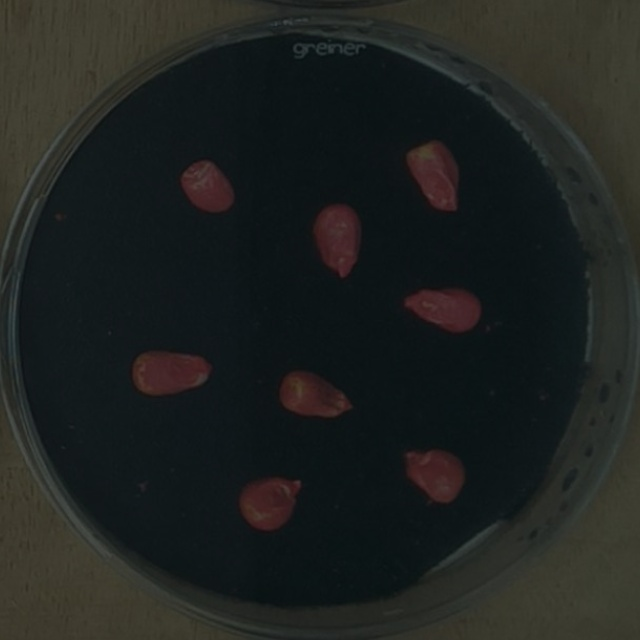Zea mays: (121, 341, 222, 404), (271, 360, 364, 427), (395, 279, 492, 339), (399, 132, 465, 220), (393, 439, 472, 512), (231, 468, 311, 537), (307, 195, 369, 284), (174, 150, 243, 222)
